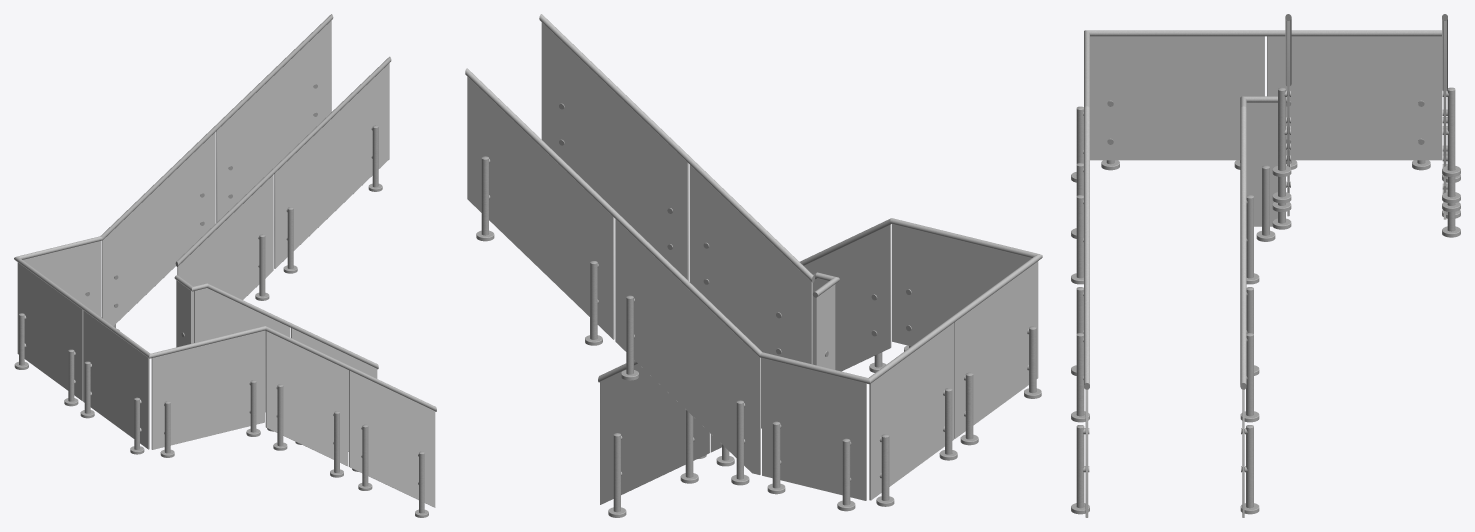
Rendered from Switchback_Railing_Lo-Post_Round.gltf.
3 views of the same model, side by side, from view 1: azimuth 30°, elevation 25°; view 2: azimuth 150°, elevation 25°; view 3: azimuth 270°, elevation 25° (orthographic). The views are drawn at different scales.
Visible parts, largest first — view 1: Casework 1 Casework 1 [8738332], Infill_Glass_Raked & Horizontal Generic [8200579], Infill_Glass_Raked & Horizontal Generic [8736296], Infill_Glass_Raked & Horizontal Generic [8739156], Infill_Glass_Raked & Horizontal Generic [8735940], Infill_Glass_Raked & Horizontal Generic [8739593], Infill_Glass_Raked & Horizontal Generic [8199751], Infill_Glass_Raked & Horizontal Generic [8738822], Infill_Glass_Raked & Horizontal Generic [8739062], Generic Models 10 Generic Models 1 [8735975], Infill_Glass_Raked & Horizontal Generic [8737682], Infill_Glass_Transition Generic [8202170] (+4 smaller); view 2: Infill_Glass_Raked & Horizontal Generic [8736296], Infill_Glass_Raked & Horizontal Generic [8200579], Casework 1 Casework 1 [8738332], Infill_Glass_Raked & Horizontal Generic [8199751], Infill_Glass_Raked & Horizontal Generic [8737682], Infill_Glass_Raked & Horizontal Generic [8739156], Infill_Glass_Raked & Horizontal Generic [8738822], Infill_Glass_Raked & Horizontal Generic [8739062], Infill_Glass_Raked & Horizontal Generic [8202939], Infill_Glass_Raked & Horizontal Generic [8739593], Generic Models 10 Generic Models 1 [8735975], Generic Models 2 Generic Models 2 [8568681] (+1 smaller); view 3: Infill_Glass_Raked & Horizontal Generic [8739062], Infill_Glass_Raked & Horizontal Generic [8738822], LS103 & LS116 - Circum Round Post Material LS Material [9209 (×9), Generic Models 10 Generic Models 1 [8735975], Infill_Glass_Raked & Horizontal Generic [8201308], Generic Models 1 Generic Models 1 [8568048], Infill_Glass_Raked & Horizontal Generic [8736296], Infill_Glass_Raked & Horizontal Generic [8735940], Infill_Glass_Raked & Horizontal Generic [8200579].
Part boxes in pixels (<box>): Casework 1 Casework 1 [8738332]: <box>101,132,215,326</box>; Infill_Glass_Raked & Horizontal Generic [8200579]: <box>274,63,389,268</box>; Infill_Glass_Raked & Horizontal Generic [8736296]: <box>216,20,331,222</box>; Infill_Glass_Raked & Horizontal Generic [8739156]: <box>151,330,264,449</box>; Infill_Glass_Raked & Horizontal Generic [8735940]: <box>349,370,435,507</box>; Infill_Glass_Raked & Horizontal Generic [8739593]: <box>265,331,348,466</box>; Infill_Glass_Raked & Horizontal Generic [8199751]: <box>177,175,273,343</box>; Infill_Glass_Raked & Horizontal Generic [8738822]: <box>17,262,83,401</box>; Infill_Glass_Raked & Horizontal Generic [8739062]: <box>83,310,149,449</box>; Generic Models 10 Generic Models 1 [8735975]: <box>14,14,436,411</box>; Infill_Glass_Raked & Horizontal Generic [8737682]: <box>23,241,100,316</box>; Infill_Glass_Transition Generic [8202170]: <box>194,288,290,412</box>; Infill_Glass_Raked & Horizontal Generic [8736296]: <box>467,77,614,339</box>; Infill_Glass_Raked & Horizontal Generic [8200579]: <box>541,22,688,280</box>; Casework 1 Casework 1 [8738332]: <box>615,219,760,474</box>; Infill_Glass_Raked & Horizontal Generic [8199751]: <box>689,165,812,364</box>; Infill_Glass_Raked & Horizontal Generic [8737682]: <box>762,358,866,500</box>; Infill_Glass_Raked & Horizontal Generic [8739156]: <box>892,224,1031,346</box>; Infill_Glass_Raked & Horizontal Generic [8738822]: <box>869,323,954,500</box>; Infill_Glass_Raked & Horizontal Generic [8739062]: <box>954,261,1038,438</box>; Infill_Glass_Raked & Horizontal Generic [8202939]: <box>600,364,710,504</box>; Infill_Glass_Raked & Horizontal Generic [8739593]: <box>804,224,891,371</box>; Generic Models 10 Generic Models 1 [8735975]: <box>465,68,1042,384</box>; Generic Models 2 Generic Models 2 [8568681]: <box>539,14,814,282</box>; Infill_Glass_Raked & Horizontal Generic [8739062]: <box>1090,36,1264,160</box>; Infill_Glass_Raked & Horizontal Generic [8738822]: <box>1267,36,1442,160</box>; LS103 & LS116 - Circum Round Post Material LS Material [9209 (×9): <box>1076,90,1455,508</box>; Generic Models 10 Generic Models 1 [8735975]: <box>1084,14,1447,389</box>; Infill_Glass_Raked & Horizontal Generic [8201308]: <box>1246,102,1277,226</box>; Generic Models 1 Generic Models 1 [8568048]: <box>1240,96,1286,389</box>; Infill_Glass_Raked & Horizontal Generic [8736296]: <box>1443,21,1446,186</box>; Infill_Glass_Raked & Horizontal Generic [8735940]: <box>1085,389,1088,517</box>; Infill_Glass_Raked & Horizontal Generic [8200579]: <box>1287,21,1289,186</box>.
Bounding box in the file's own units: 3.06 × 3.51 × 2.36.
Materials: 4 (2 with a texture image).
